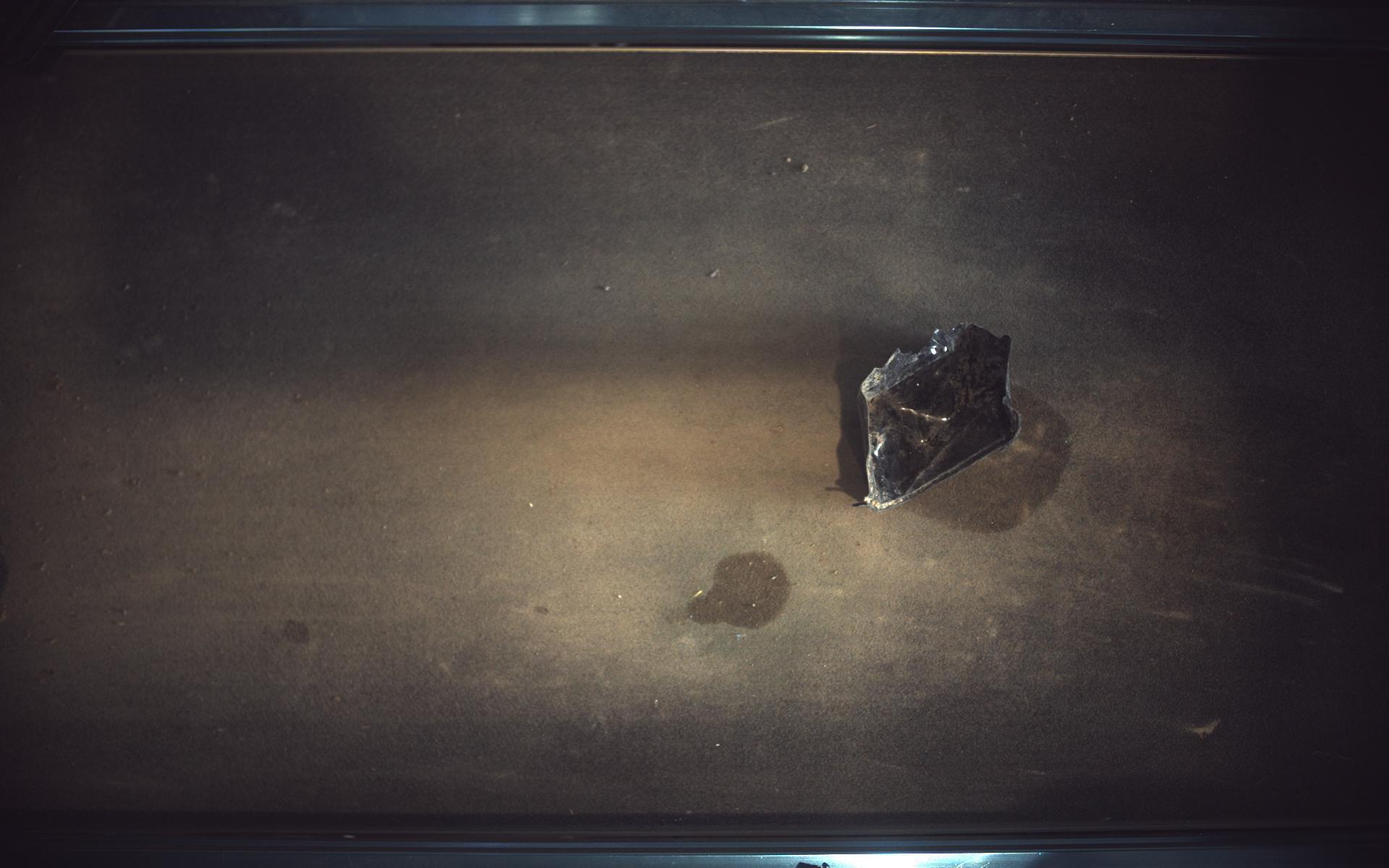general_w: (861, 324, 1023, 510)
